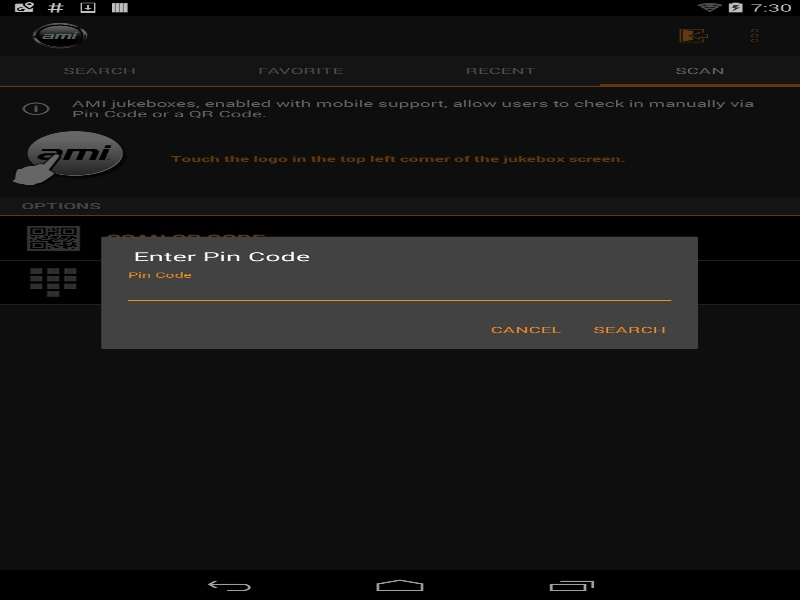Button: (577, 312, 682, 346), (474, 312, 577, 346)
Input: (122, 277, 676, 305)
